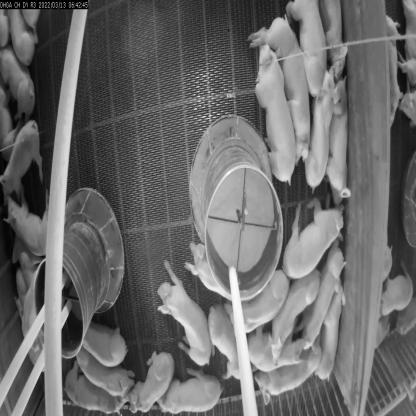Pig: (244, 10, 312, 162), (251, 47, 299, 186), (155, 267, 214, 372), (270, 271, 319, 358), (283, 0, 325, 99), (287, 203, 343, 276), (0, 116, 45, 206), (301, 252, 341, 352), (301, 75, 334, 192), (233, 272, 285, 340), (63, 360, 126, 415), (4, 187, 49, 258), (210, 303, 251, 380), (130, 356, 178, 416), (79, 346, 133, 398), (0, 48, 41, 116), (328, 76, 350, 202), (254, 358, 312, 403), (163, 373, 220, 415), (84, 312, 122, 364)
